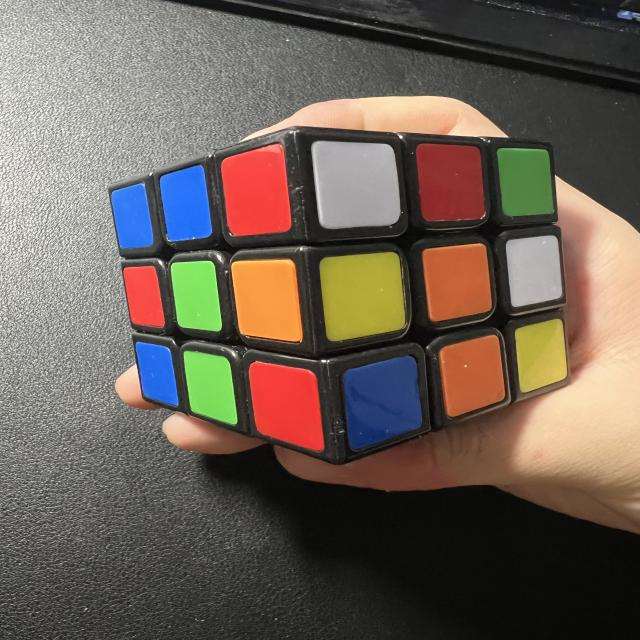blue: (340, 356, 422, 452), (154, 163, 216, 247), (134, 332, 179, 414), (107, 180, 154, 254)
center: (421, 242, 494, 322), (169, 258, 223, 336)
green: (181, 343, 239, 433), (496, 140, 557, 221), (168, 256, 226, 337)
orange: (230, 254, 303, 348), (438, 332, 508, 416), (423, 242, 493, 322)
red: (246, 353, 325, 464), (217, 140, 291, 237), (414, 137, 485, 224), (117, 260, 165, 332)
white: (312, 136, 403, 229), (501, 231, 566, 310)
yellow: (316, 249, 409, 343), (509, 317, 572, 395)
